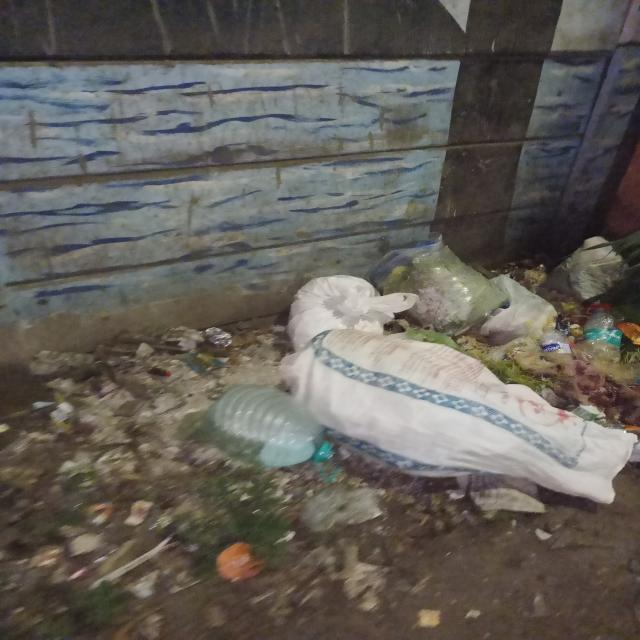garbage: (15, 247, 640, 640)
